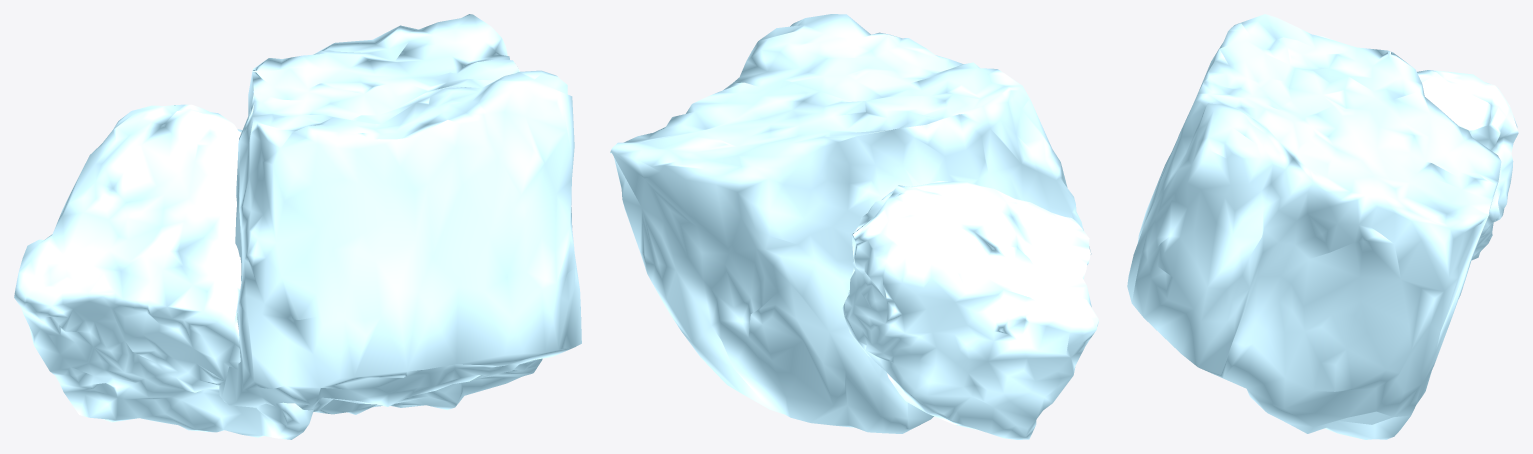
The model's file is ice_chunk.glb.
The picture shows the model from 3 angles, left to right: view 1: azimuth 30°, elevation 25°; view 2: azimuth 150°, elevation 25°; view 3: azimuth 270°, elevation 25°; orthographic projection. The views are drawn at different scales.
Size of the model in its own units: 6.08 by 4.15 by 4.46.
